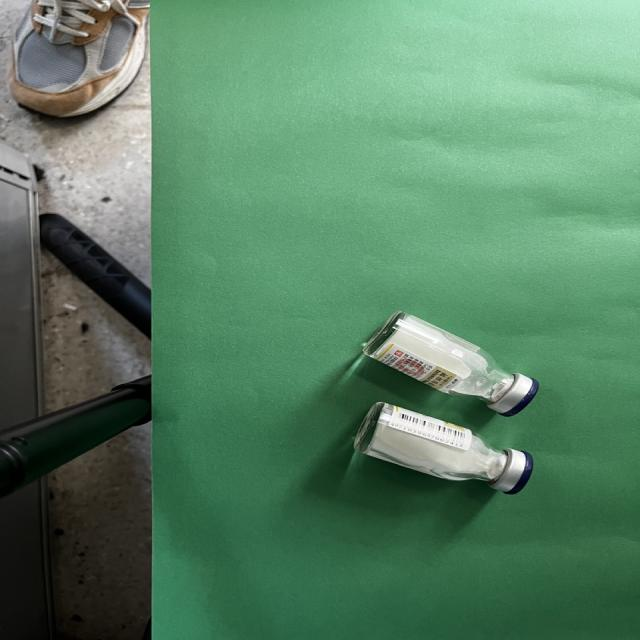Vials: (363, 311, 539, 416), (353, 402, 533, 494)
